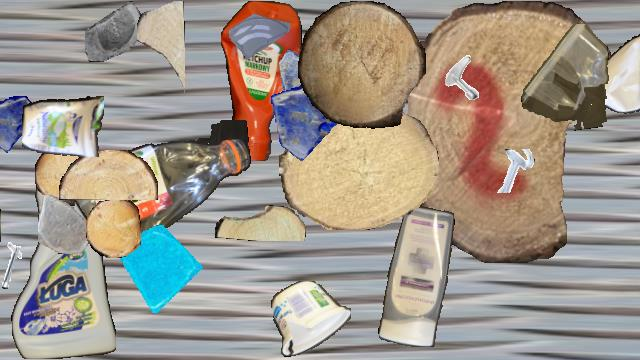glass: (119, 225, 207, 313), (269, 79, 353, 163), (229, 1, 291, 63), (85, 1, 145, 61), (38, 195, 96, 253), (279, 46, 335, 102), (0, 96, 39, 152)
metal: (439, 52, 491, 104), (0, 242, 43, 298), (492, 149, 536, 193)
plastic: (73, 120, 251, 238), (11, 169, 115, 359), (221, 1, 301, 161), (377, 206, 455, 346), (519, 24, 611, 130), (580, 1, 640, 121), (271, 281, 351, 357), (22, 92, 104, 156), (0, 171, 1, 271)
wood: (408, 1, 612, 263), (279, 109, 439, 229), (298, 1, 426, 129), (59, 150, 157, 200), (137, 1, 185, 97), (215, 205, 305, 241), (86, 200, 140, 258), (35, 146, 85, 206)
